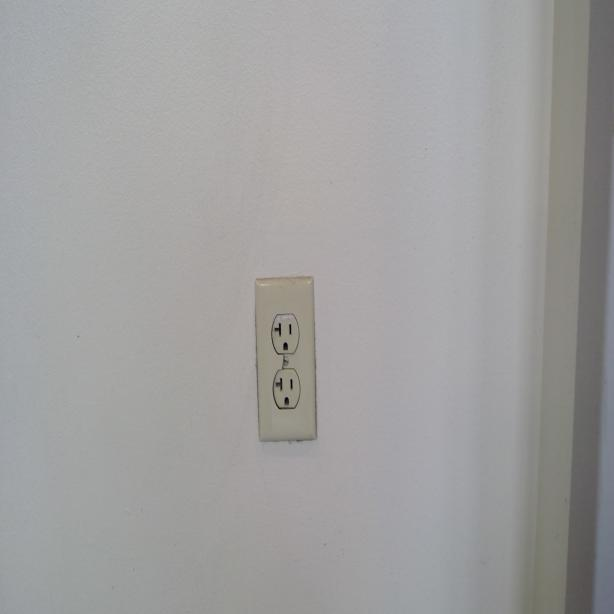typeb: (270, 314, 300, 356), (273, 369, 300, 410)
